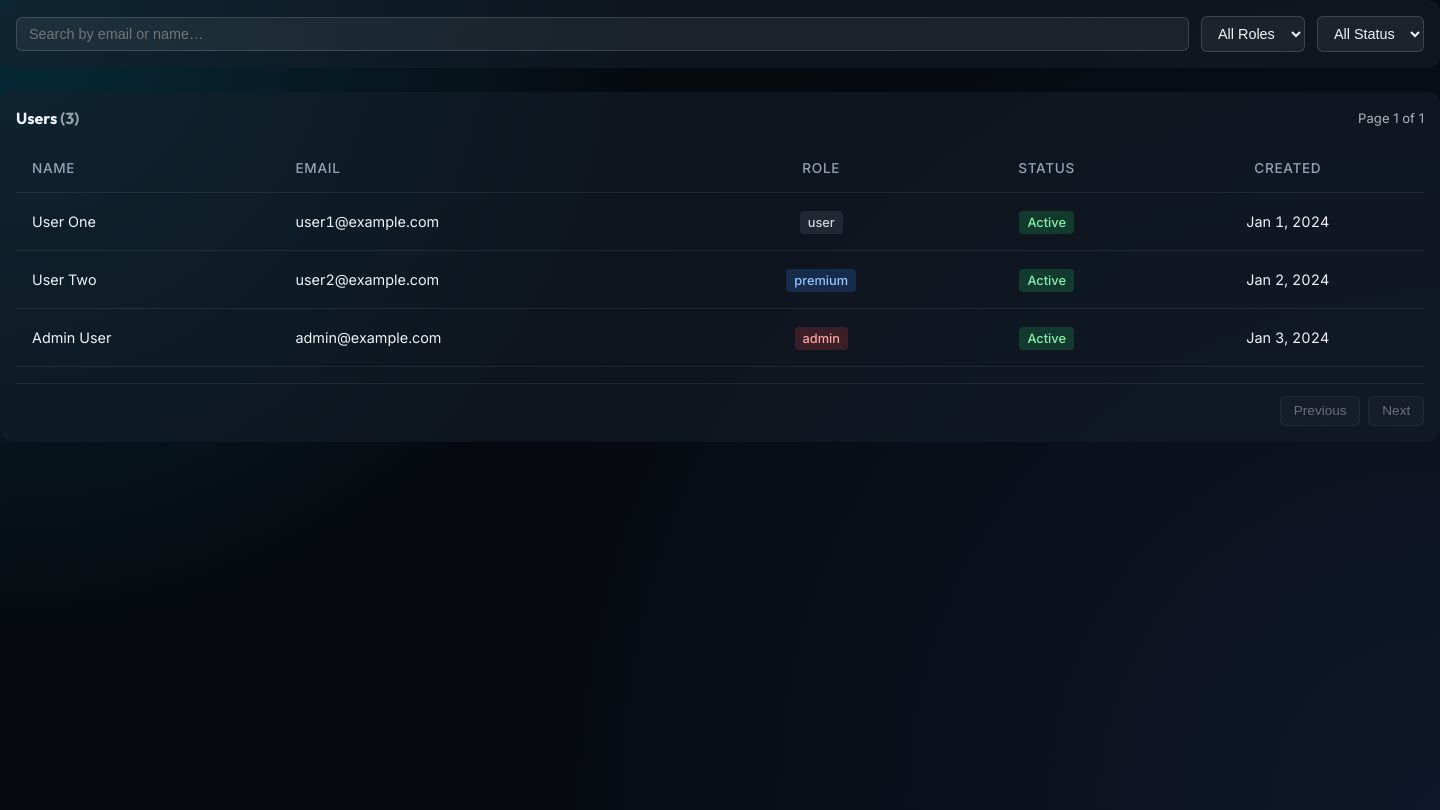
Test: UsersTab › does not display force password reset button for OAuth-only users
Check: the text "user2@example.com" is shown, box [280,250,701,308]
Click the text "User Two" at [720, 280], box [16,250,1424,308]
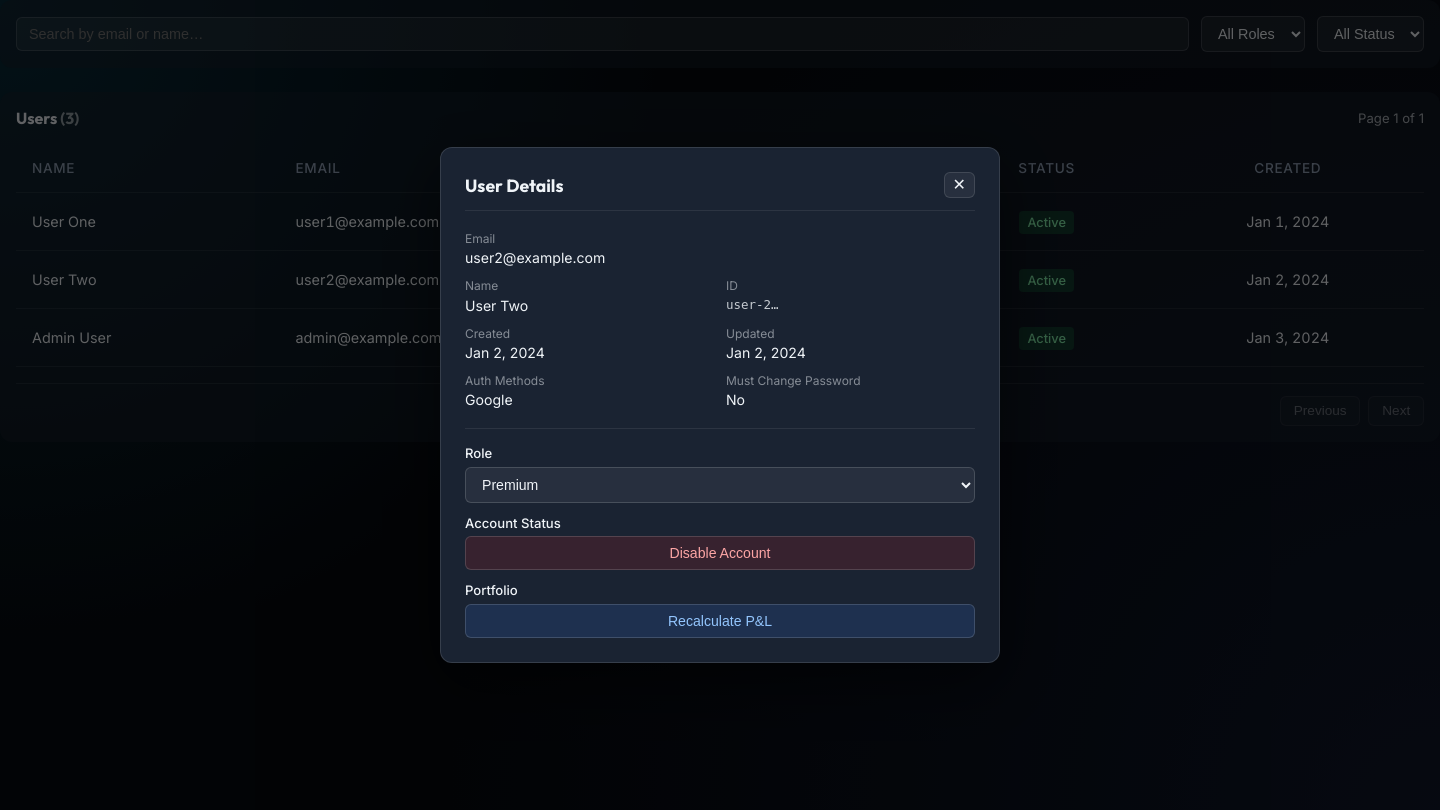
Check: the heading "User Details" is shown, box [465,174,564,197]
